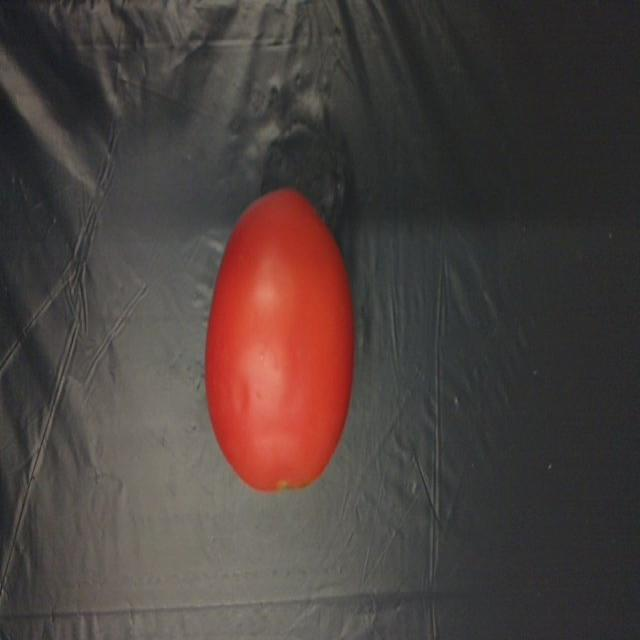kirmizi: (203, 190, 360, 514)
